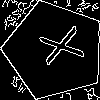X: (29, 25, 85, 70)
